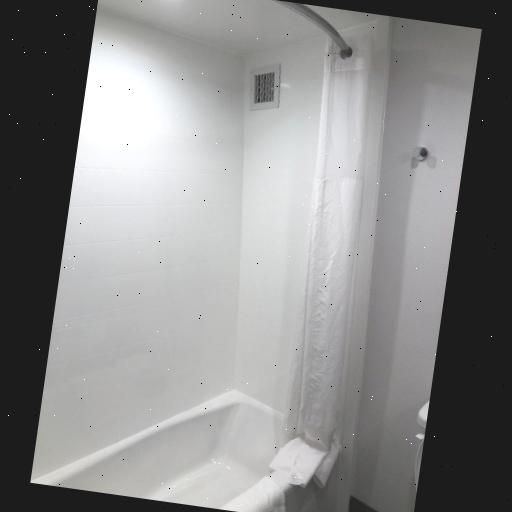clean_bathtub: (29, 384, 320, 512)
